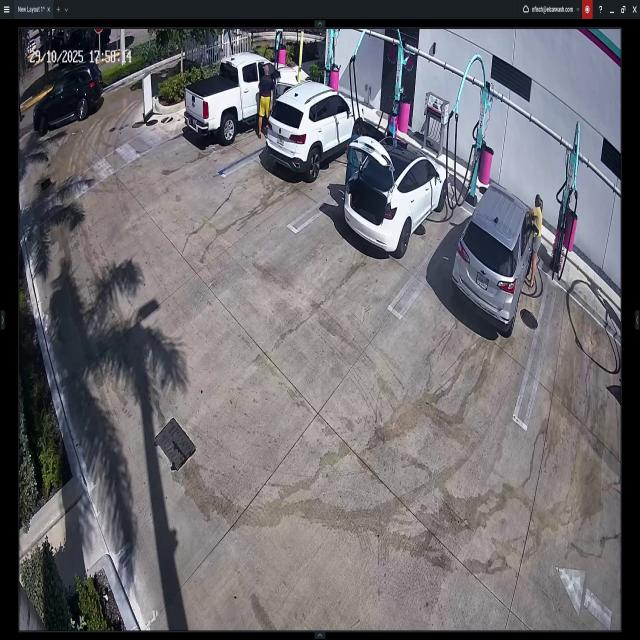Car: (455, 187, 536, 331), (349, 136, 445, 256), (182, 60, 298, 141), (267, 86, 362, 175), (35, 67, 103, 126)
